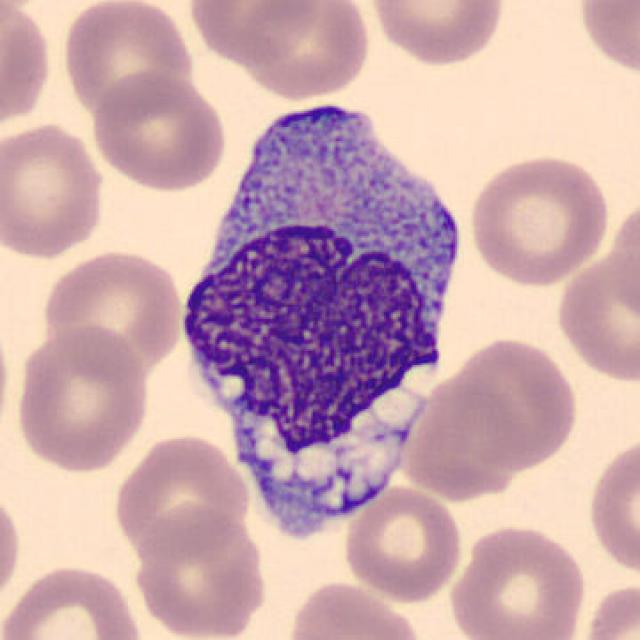Monocyte: (169, 65, 471, 538)
RBC: (12, 323, 153, 474), (464, 150, 612, 289), (130, 504, 270, 640), (110, 430, 254, 562), (39, 247, 187, 375), (450, 333, 581, 474), (444, 520, 590, 640), (89, 69, 229, 194), (58, 0, 195, 122), (340, 481, 466, 605), (0, 118, 108, 262), (238, 0, 373, 102), (551, 249, 638, 386), (0, 560, 146, 640), (364, 0, 508, 69), (282, 576, 426, 640), (185, 0, 320, 67), (583, 430, 638, 580), (0, 0, 55, 139), (572, 0, 638, 81), (578, 578, 638, 640), (0, 483, 25, 614), (0, 315, 12, 449)
